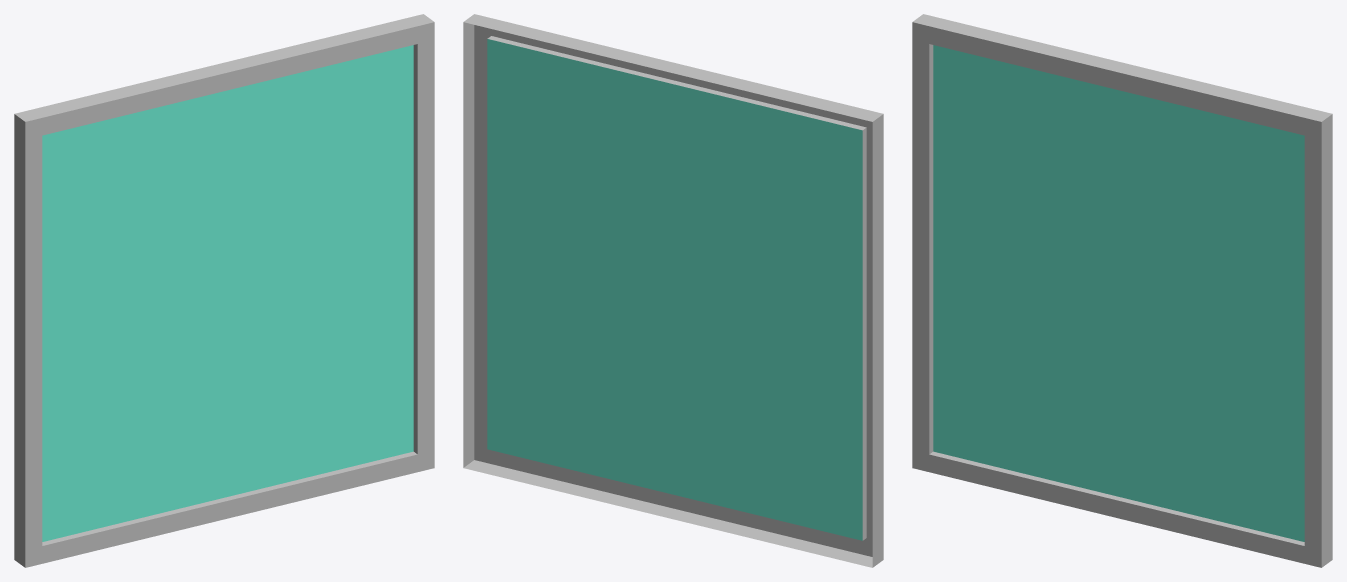
Rendered from jiaju_022.fbx.
3 views of the same model, side by side, from view 1: azimuth 30°, elevation 25°; view 2: azimuth 150°, elevation 25°; view 3: azimuth 330°, elevation 25° (orthographic).
Visible parts, largest first — view 1: jiaju_022; view 2: jiaju_022; view 3: jiaju_022.
Part boxes in pixels (box(x1,y1,x2,y2)): jiaju_022: box(14, 14, 434, 567); jiaju_022: box(463, 14, 883, 567); jiaju_022: box(912, 14, 1332, 567).
Bounding box in the file's own units: 68.86 × 3.23 × 71.7.
